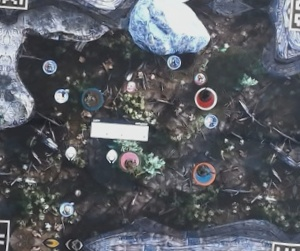brown_turquoise: (80, 86, 104, 111)
light_blue_orange: (191, 160, 216, 185)
pink_green: (118, 149, 142, 174)
red: (193, 86, 218, 111)
